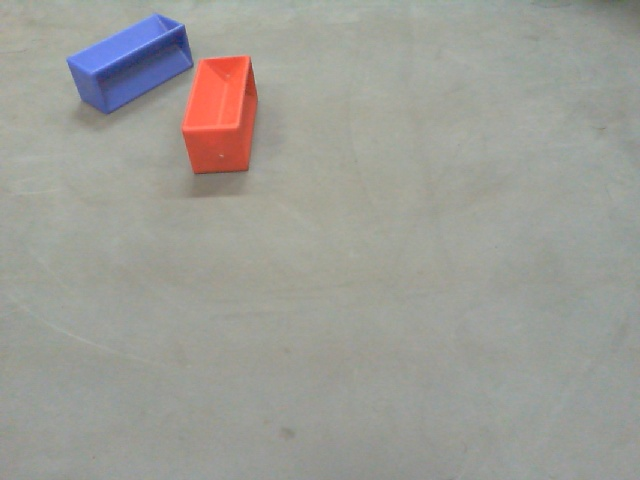BlueSample: (62, 9, 193, 114)
RedSample: (177, 52, 259, 189)
